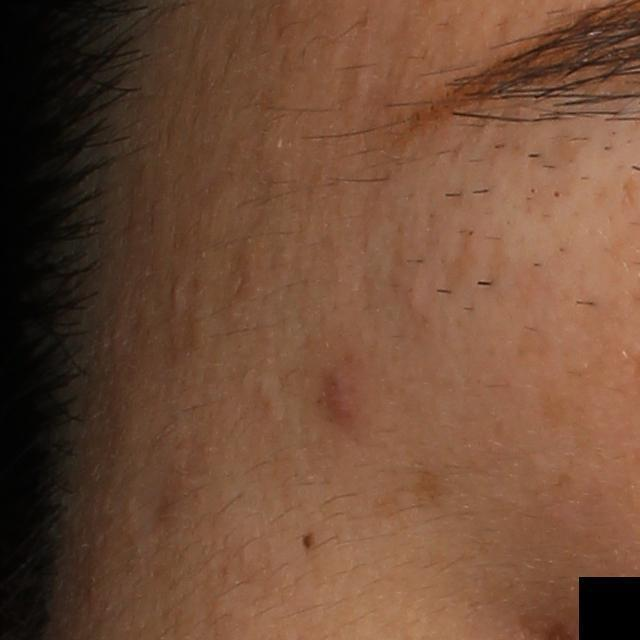melasma: (370, 465, 457, 529)
nevus: (299, 530, 317, 553)
papule: (323, 367, 360, 424)
